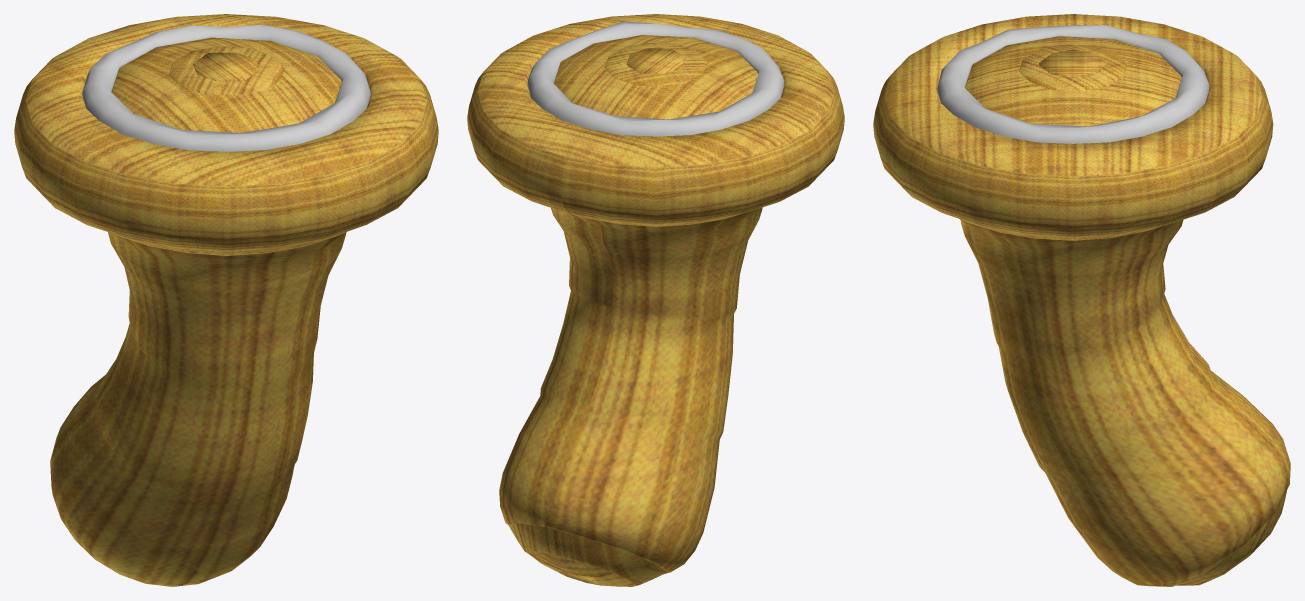
The model's file is kinokotwinsplaneta.dae.
3 renders of one model, left to right at view 1: azimuth 30°, elevation 25°; view 2: azimuth 150°, elevation 25°; view 3: azimuth 270°, elevation 25°, orthographic. The views are drawn at different scales.
Parts seen in each view (by area): view 1: n1b0, n0b1; view 2: n1b0, n0b1; view 3: n1b0, n0b1.
Boxes of the visible parts, x1,y1,x2,y2 form: n1b0: (14, 14, 438, 586); n0b1: (82, 25, 370, 151); n1b0: (467, 14, 844, 586); n0b1: (527, 21, 784, 136); n1b0: (873, 14, 1290, 586); n0b1: (937, 25, 1209, 143).
Size of the model in its own units: 1632 by 2298 by 1693.
